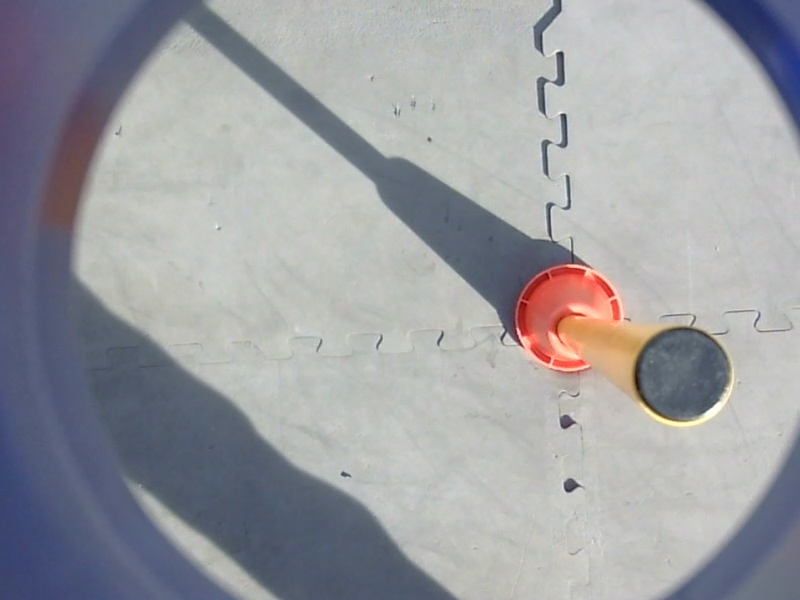tip: (626, 319, 740, 435)
